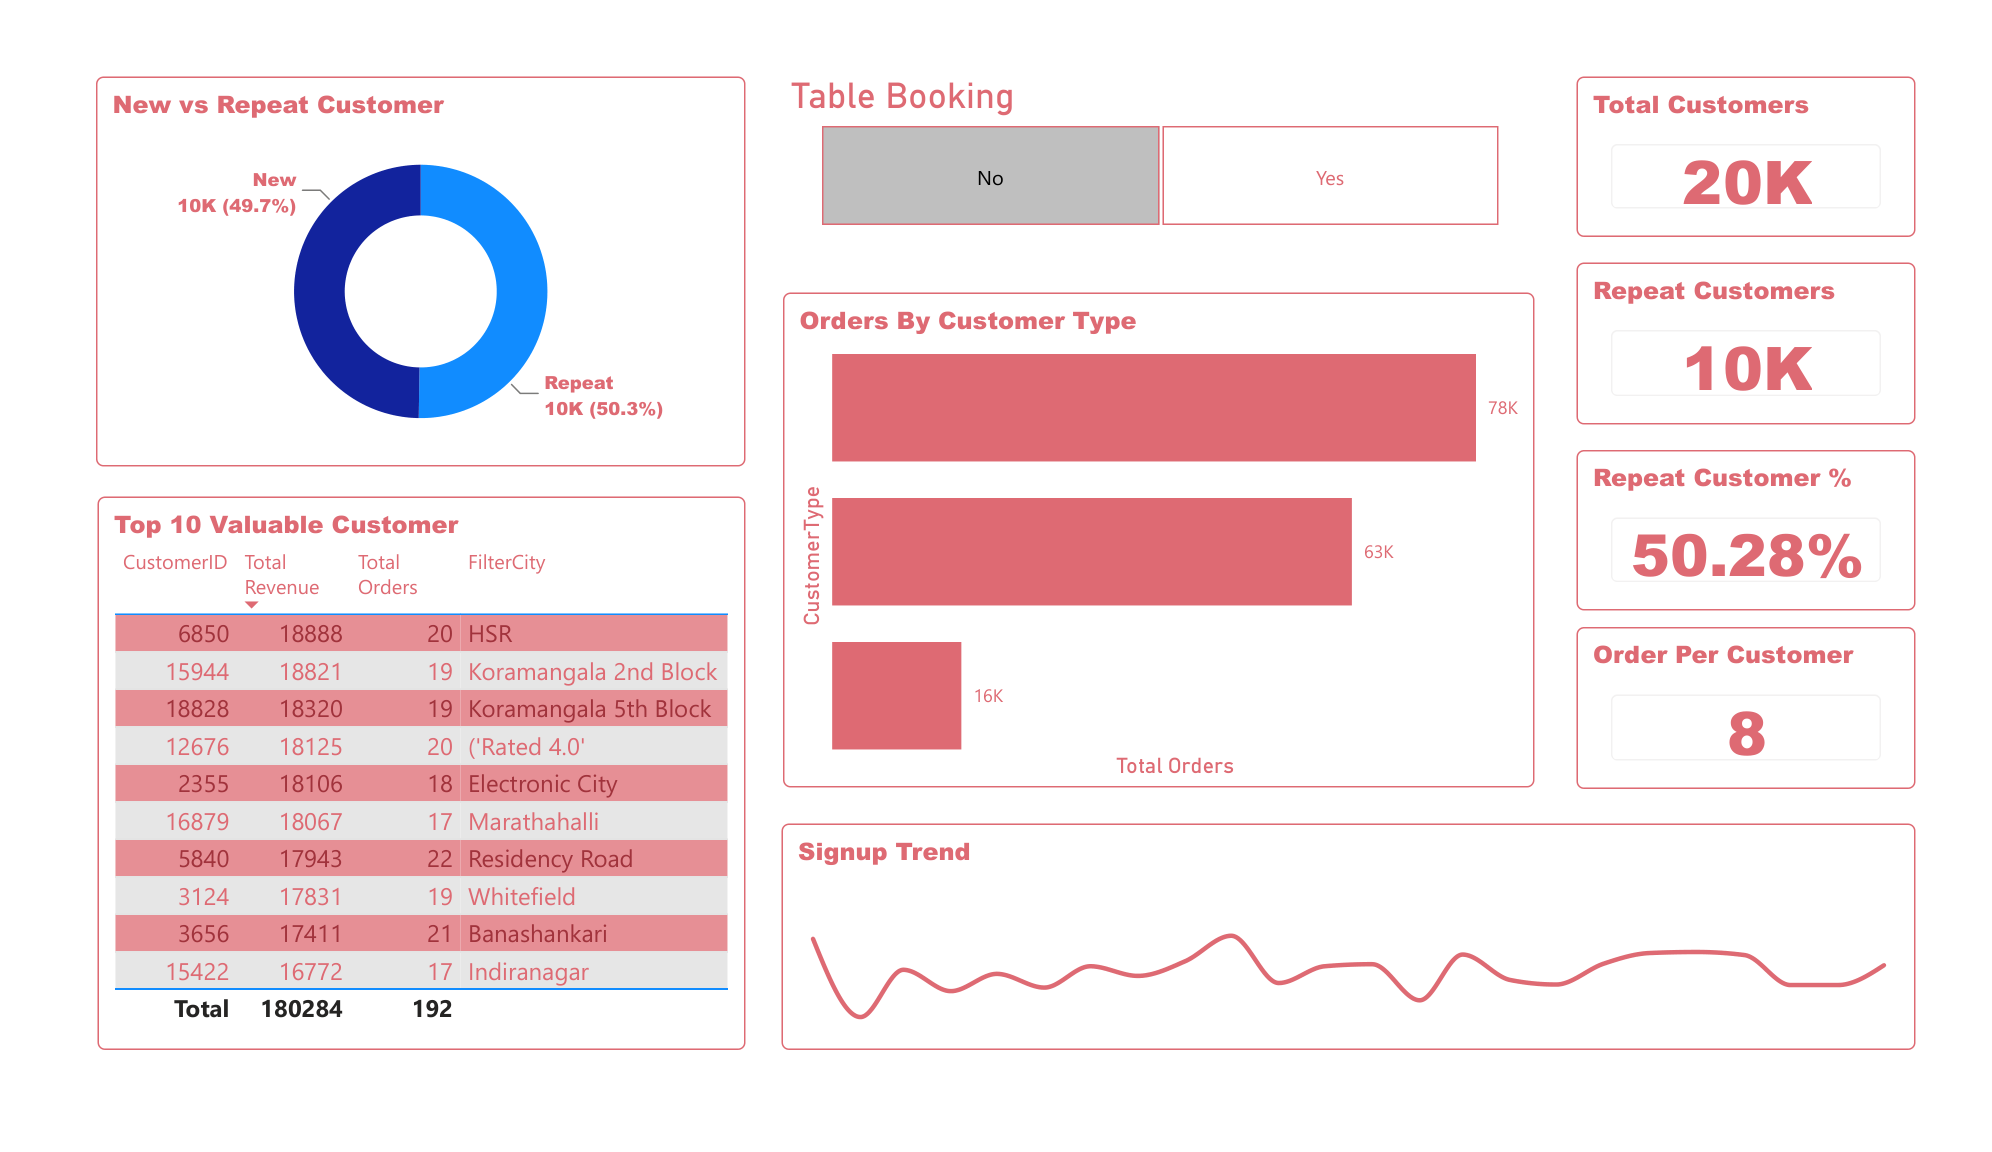

This screenshot's page, from the dashboard's own definition file:
{"tool":"powerbi","page":{"name":"Customer Analytics","canvas":[1280,720],"ordinal":1},"visuals":[{"type":"cardVisual","title":"Total Customers","fields":{"Data":["Orders.Total Customers"]},"box":[1027.3,26.8,226.1,107.4],"z":0},{"type":"cardVisual","title":"Repeat Customers","fields":{"Data":["Orders.Repeat Customers"]},"box":[1027.3,151.2,226.1,107.4],"z":1000},{"type":"cardVisual","title":"Repeat Customer %","fields":{"Data":["Orders.Repeat Customer %"]},"box":[1027.3,275.6,226.1,107.4],"z":2000},{"type":"cardVisual","title":"Order Per Customer","fields":{"Data":["Orders.Orders Per Customer"]},"box":[1027.3,394.3,226.1,107.4],"z":3000},{"type":"lineChart","title":"Signup Trend","fields":{"Category":["Customers.SignupDate.Variation.Date Hierarchy.Year","Customers.SignupDate.Variation.Date Hierarchy.Month"],"Y":["Orders.Total Customers"]},"box":[497.1,525.2,756.3,151],"z":4000},{"type":"clusteredBarChart","title":"Orders By Customer Type","fields":{"Category":["Customers.CustomerType"],"Y":["Orders.Total Orders"]},"box":[497.5,171.2,501.2,330],"z":5000},{"type":"donutChart","title":"New vs Repeat Customer","fields":{"Category":["Customers.RepeatedvsNew"],"Y":["Orders.Total Customers"]},"box":[40,27.1,432.9,260],"z":6000},{"type":"tableEx","title":"Top 10 Valuable Customer","fields":{"Values":["Orders.CustomerID","Orders.Total Revenue","Orders.Total Orders","Customers.FilterCity"]},"box":[41.4,307.1,431.4,368.6],"z":7000},{"type":"slicer","title":"Table Booking","fields":{"Values":["Restaurants.Book_Table 2"]},"box":[497.5,26.2,501.2,106.2],"z":8000}]}

Visuals, with their boxes in screenshot pixels (x1, y1, x2, y2), scaled from the page's 1280x720 canvas onto the 1992x1152 screenshot:
"Total Customers" cardVisual: <bbox>1599, 43, 1951, 215</bbox>
"Repeat Customers" cardVisual: <bbox>1599, 242, 1951, 414</bbox>
"Repeat Customer %" cardVisual: <bbox>1599, 441, 1951, 613</bbox>
"Order Per Customer" cardVisual: <bbox>1599, 631, 1951, 803</bbox>
"Signup Trend" lineChart: <bbox>774, 840, 1951, 1082</bbox>
"Orders By Customer Type" clusteredBarChart: <bbox>774, 274, 1554, 802</bbox>
"New vs Repeat Customer" donutChart: <bbox>62, 43, 736, 459</bbox>
"Top 10 Valuable Customer" tableEx: <bbox>64, 491, 736, 1081</bbox>
"Table Booking" slicer: <bbox>774, 42, 1554, 212</bbox>
